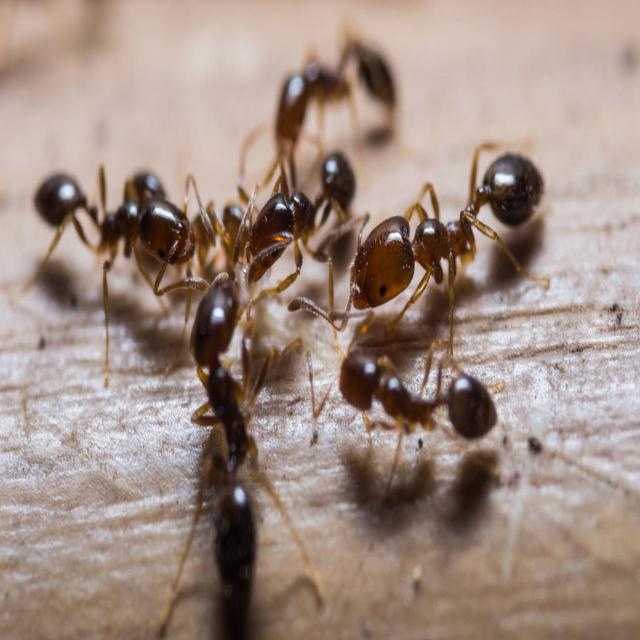ants: (336, 132, 546, 324), (183, 271, 279, 628), (38, 131, 204, 318), (322, 318, 506, 483), (238, 132, 365, 295)
